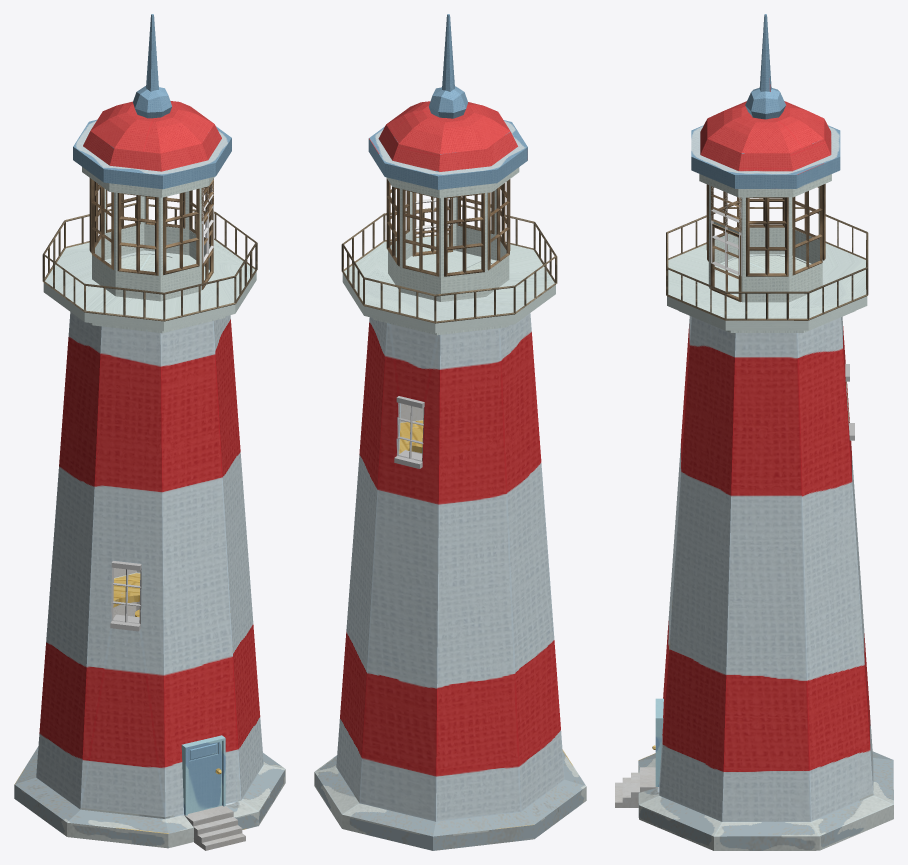
Rendered from lighthouse.fbx.
3 views of the same model, side by side, from view 1: azimuth 30°, elevation 25°; view 2: azimuth 150°, elevation 25°; view 3: azimuth 270°, elevation 25° (orthographic).
Parts seen in each view (by area): view 1: lighthouse, crbIsha, part lighthouse 1, glass of lamp, glass of lamp.001, zabor, Door.001, Cube, window1, DoorKosyk, glass of lamp.002; view 2: lighthouse, crbIsha, part lighthouse 1, glass of lamp, glass of lamp.001, zabor, window2, glass door; view 3: lighthouse, crbIsha, part lighthouse 1, glass of lamp, glass of lamp.001, zabor, Cube, glass door, glass of lamp.002, DoorKosyk.
Boxes of the visible parts, left/top/right/bottom form: lighthouse: left=14, top=312, right=285, bottom=848; crbIsha: left=73, top=14, right=231, bottom=189; part lighthouse 1: left=43, top=240, right=256, bottom=333; glass of lamp: left=82, top=167, right=214, bottom=301; glass of lamp.001: left=89, top=178, right=213, bottom=275; zabor: left=42, top=203, right=257, bottom=321; Door.001: left=188, top=741, right=221, bottom=813; Cube: left=184, top=805, right=245, bottom=850; window1: left=110, top=561, right=141, bottom=631; DoorKosyk: left=181, top=735, right=225, bottom=815; glass of lamp.002: left=201, top=179, right=213, bottom=264; lighthouse: left=314, top=313, right=586, bottom=850; crbIsha: left=368, top=14, right=527, bottom=189; part lighthouse 1: left=342, top=234, right=555, bottom=335; glass of lamp: left=386, top=167, right=519, bottom=301; glass of lamp.001: left=386, top=178, right=510, bottom=276; zabor: left=341, top=204, right=557, bottom=323; window2: left=394, top=396, right=424, bottom=468; glass door: left=412, top=192, right=452, bottom=256; lighthouse: left=638, top=316, right=893, bottom=850; crbIsha: left=691, top=14, right=840, bottom=188; part lighthouse 1: left=667, top=243, right=867, bottom=332; glass of lamp: left=699, top=174, right=831, bottom=302; glass of lamp.001: left=706, top=184, right=825, bottom=276; zabor: left=666, top=207, right=868, bottom=320; Cube: left=615, top=767, right=658, bottom=807; glass door: left=710, top=223, right=741, bottom=301; glass of lamp.002: left=711, top=187, right=741, bottom=275; DoorKosyk: left=655, top=698, right=663, bottom=786.
Bounding box in the file's own units: 1709 × 5789 × 1866.
